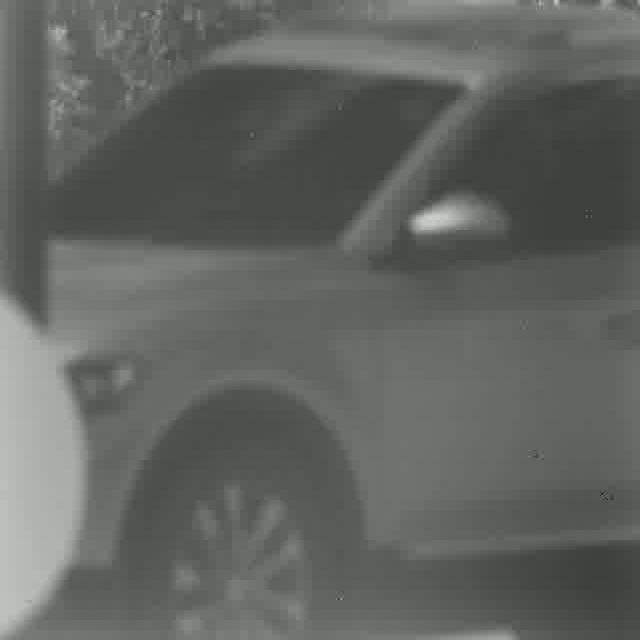Car: (41, 10, 637, 640)
